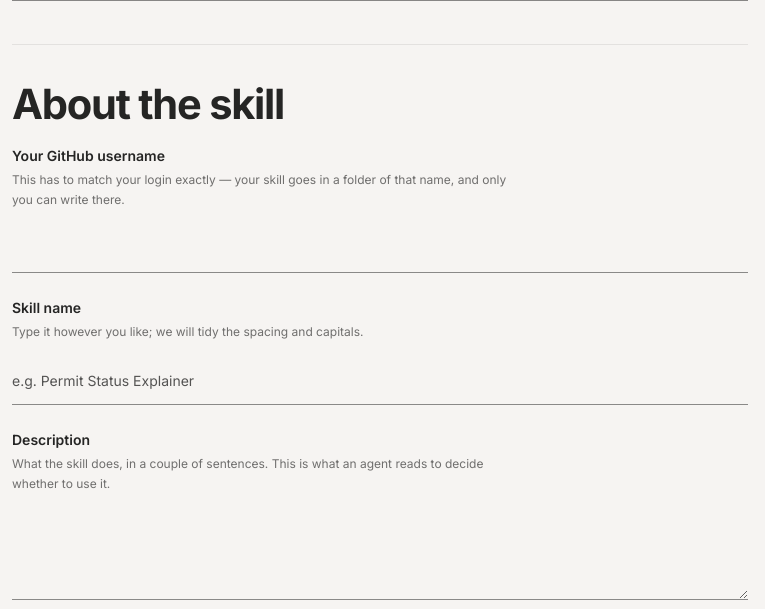
Test: Start over › is offered as soon as there is something to clear
(page scrolled)
Type "c" into the field labelled "Your GitHub username" at (380, 249), box [12, 226, 748, 273]
(page scrolled)
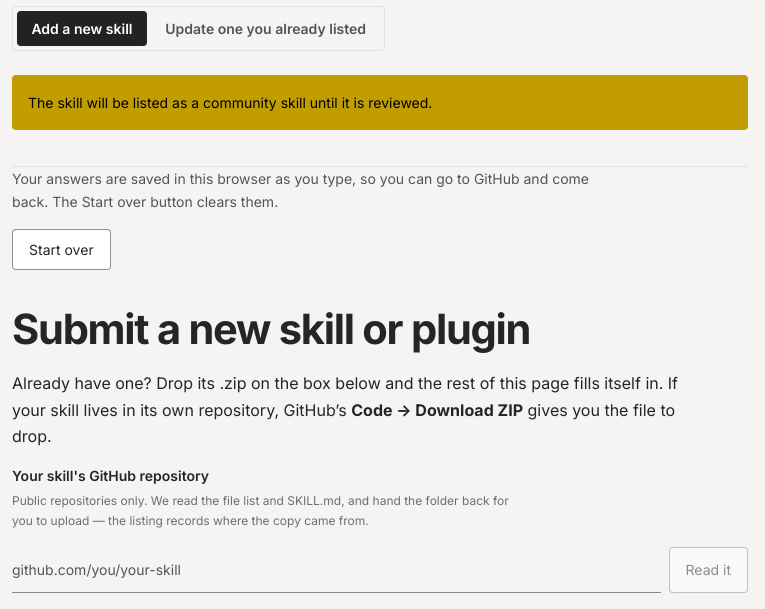
Result: the button with test id "start-over" is shown at [12, 229, 111, 270]
